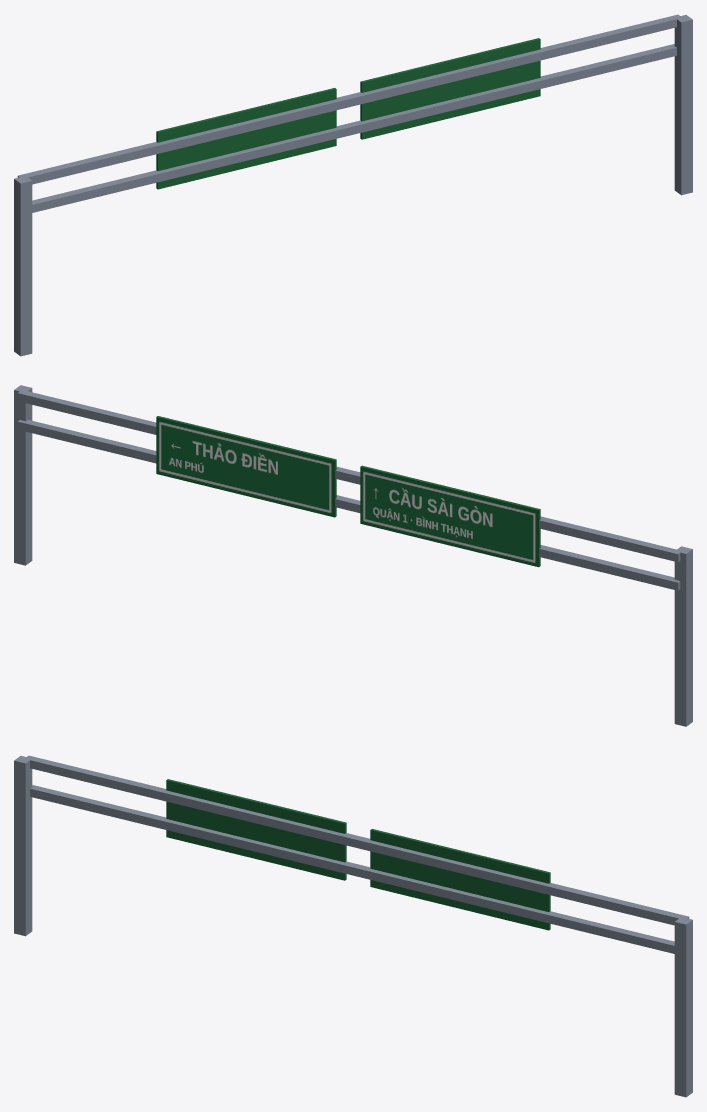
Rendered from sign_gantry_inbound.glb.
The picture shows the model from 3 angles, top to bottom: view 1: azimuth 30°, elevation 25°; view 2: azimuth 150°, elevation 25°; view 3: azimuth 330°, elevation 25°; orthographic projection.
Visible parts, largest first — view 1: gantry; view 2: gantry; view 3: gantry.
Boxes of the visible parts, left/top/right/bottom form: gantry: left=14, top=14, right=692, bottom=356; gantry: left=14, top=385, right=692, bottom=726; gantry: left=14, top=755, right=692, bottom=1097.
Size of the model in its own units: 34.6 by 9 by 0.85.
4 materials, 1 textured.
